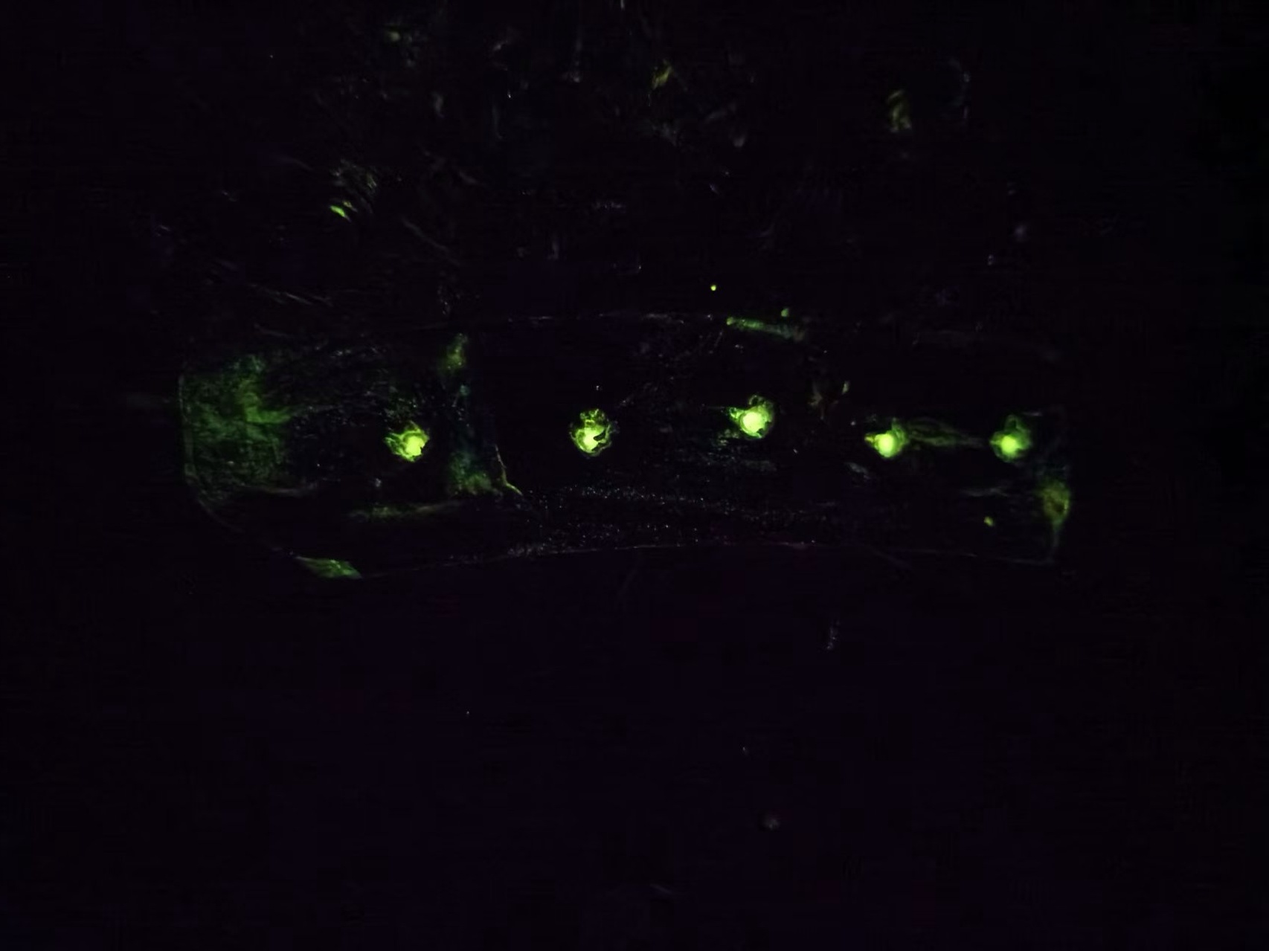Crater: (943, 393, 1055, 467), (547, 395, 646, 469), (712, 386, 802, 459), (851, 401, 926, 486), (375, 413, 449, 477)
